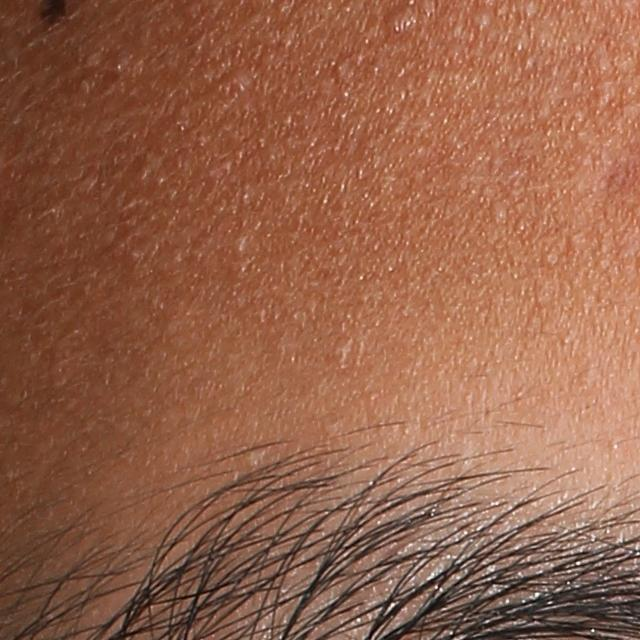comedo: (220, 66, 254, 93), (385, 10, 411, 38), (330, 339, 352, 363), (488, 198, 506, 222), (230, 237, 249, 259)
